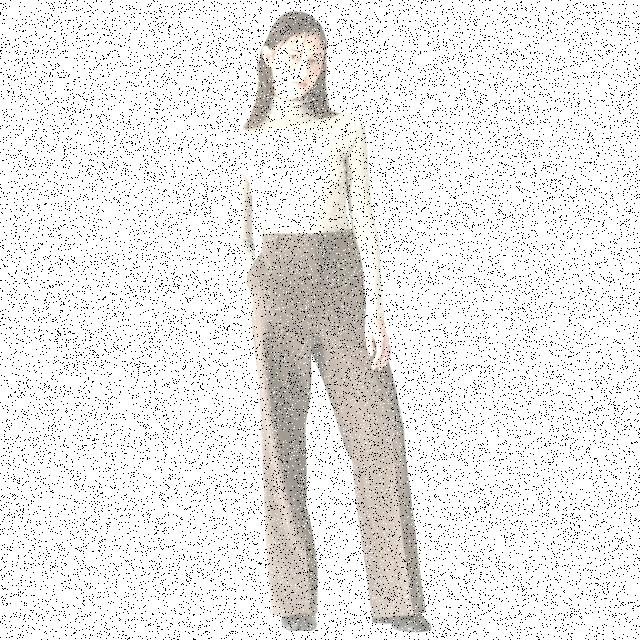dress: (245, 225, 420, 622)
